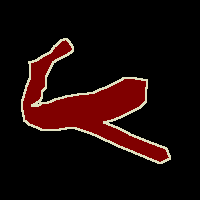tie: (22, 38, 170, 163)
